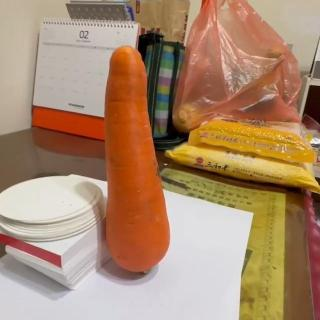carrot: (104, 47, 172, 274)
